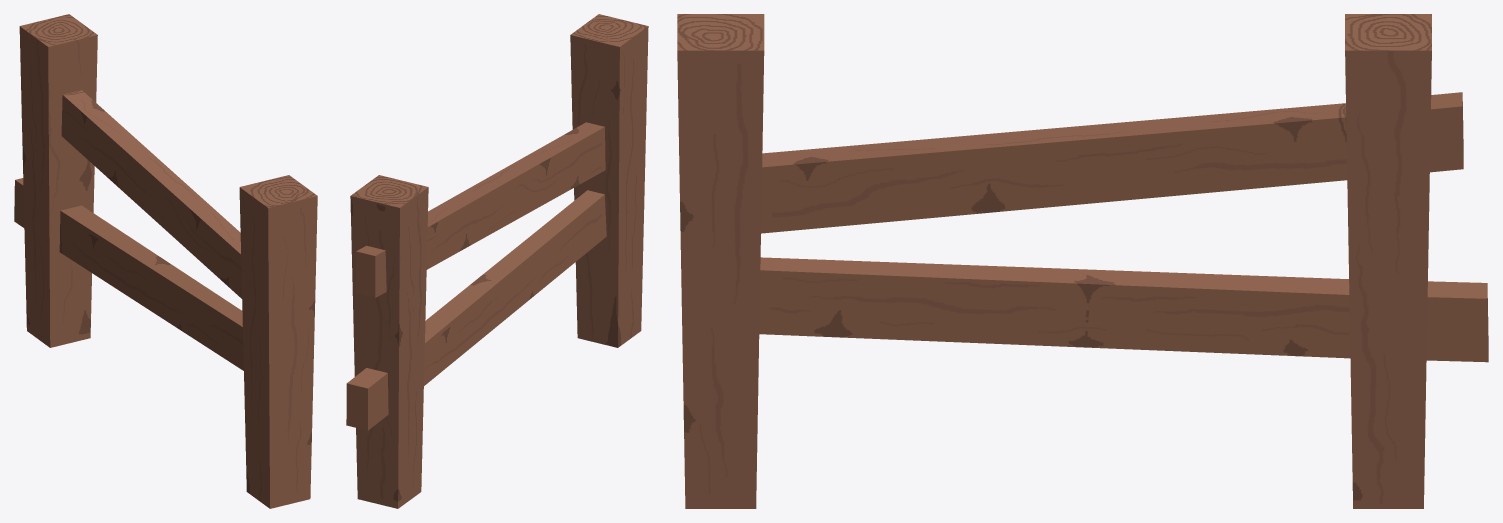
File: BrokenFence1-2.fbx
3 views of the same model, side by side, from view 1: azimuth 30°, elevation 25°; view 2: azimuth 150°, elevation 25°; view 3: azimuth 270°, elevation 25° (orthographic). The views are drawn at different scales.
Visible parts, largest first — view 1: Cube; view 2: Cube; view 3: Cube.
Boxes of the visible parts, x1,y1,x2,y2 form: Cube: [14, 14, 317, 508]; Cube: [346, 14, 648, 508]; Cube: [677, 14, 1488, 508].
Bounding box in the file's own units: 70.42 × 413 × 657.
